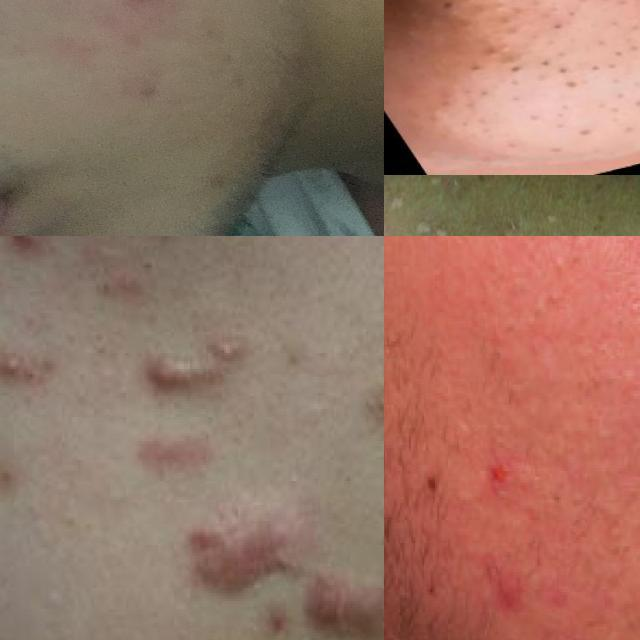comedone: (444, 38, 588, 108), (395, 0, 536, 20), (0, 236, 56, 281)
flat_wart: (488, 191, 546, 236), (414, 197, 467, 236)
keloid: (178, 497, 298, 598), (300, 568, 384, 640), (132, 356, 216, 396)
pustule: (0, 339, 36, 387)
